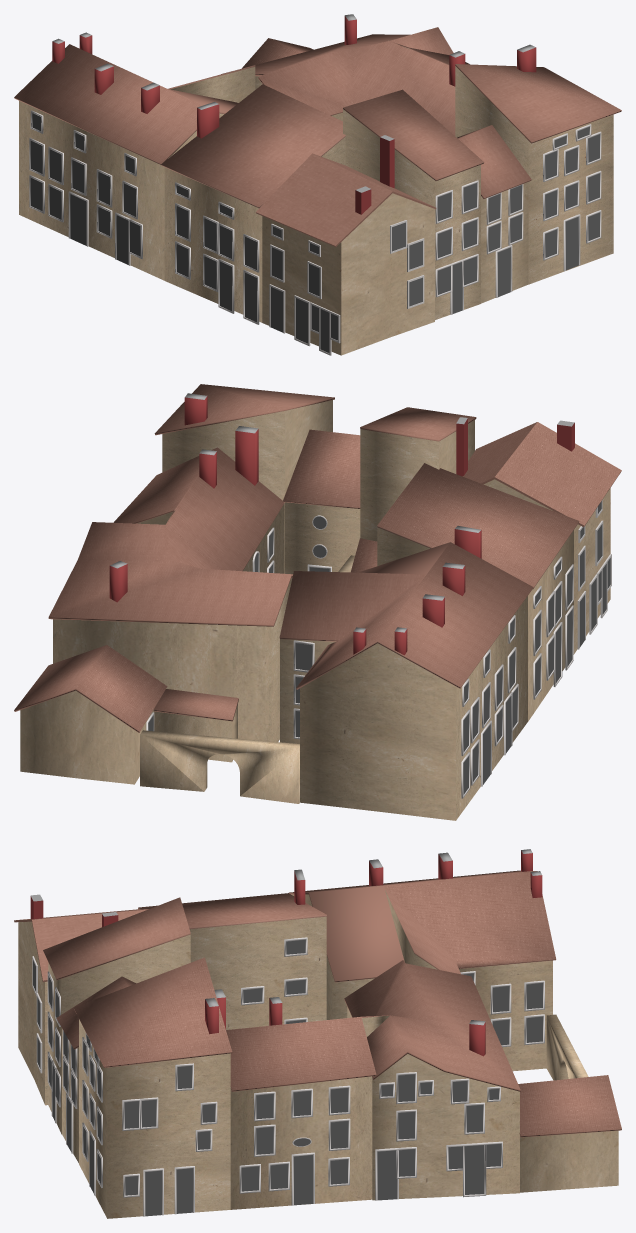
Rendered from ilot36combine.fbx.
3 renders of one model, top to bottom at view 1: azimuth 30°, elevation 25°; view 2: azimuth 150°, elevation 25°; view 3: azimuth 270°, elevation 25°, orthographic. The views are drawn at different scales.
Visible parts, largest first — view 1: _ILOT36BAT5, _ILOT36BAT1, _ILOT36BAT9, _ILOT36BAT4, _ILOT36BAT2, _ILOT36BAT10, _ILOT36BAT3, _ILOT36BAT6; view 2: _ILOT36BAT5, _ILOT36BAT10, _ILOT36BAT9, _ILOT36BAT6, _ILOT36BAT1, _ILOT36BAT4, _ILOT36BAT3, _ILOT36BAT2, MUR8, _ILOT36BAT15, _ILOT36BAT13; view 3: _ILOT36BAT10, _ILOT36BAT4, _ILOT36BAT5, _ILOT36BAT9, _ILOT36BAT2, _ILOT36BAT6, _ILOT36BAT1, _ILOT36BAT3, MUR8.
Boxes of the visible parts, x1,y1,x2,y2 form: _ILOT36BAT5: [14, 32, 255, 280]; _ILOT36BAT1: [255, 135, 436, 355]; _ILOT36BAT9: [161, 84, 345, 324]; _ILOT36BAT4: [455, 44, 621, 284]; _ILOT36BAT2: [343, 89, 484, 319]; _ILOT36BAT10: [221, 14, 469, 135]; _ILOT36BAT3: [457, 125, 531, 303]; _ILOT36BAT6: [242, 38, 313, 68]; _ILOT36BAT5: [279, 542, 533, 820]; _ILOT36BAT10: [48, 426, 292, 741]; _ILOT36BAT9: [377, 463, 579, 721]; _ILOT36BAT6: [14, 645, 167, 784]; _ILOT36BAT1: [456, 417, 621, 653]; _ILOT36BAT4: [154, 384, 334, 573]; _ILOT36BAT3: [283, 429, 360, 574]; _ILOT36BAT2: [360, 407, 476, 541]; MUR8: [140, 730, 299, 803]; _ILOT36BAT15: [153, 689, 238, 762]; _ILOT36BAT13: [351, 538, 377, 572]; _ILOT36BAT10: [214, 960, 520, 1209]; _ILOT36BAT4: [74, 957, 232, 1218]; _ILOT36BAT5: [289, 849, 556, 1071]; _ILOT36BAT9: [138, 869, 326, 1029]; _ILOT36BAT2: [43, 897, 190, 1134]; _ILOT36BAT6: [518, 1075, 621, 1192]; _ILOT36BAT1: [14, 894, 148, 1105]; _ILOT36BAT3: [56, 976, 136, 1162]; MUR8: [546, 1014, 588, 1080].
Size of the model in its own units: 5.35 by 2.31 by 6.19.
